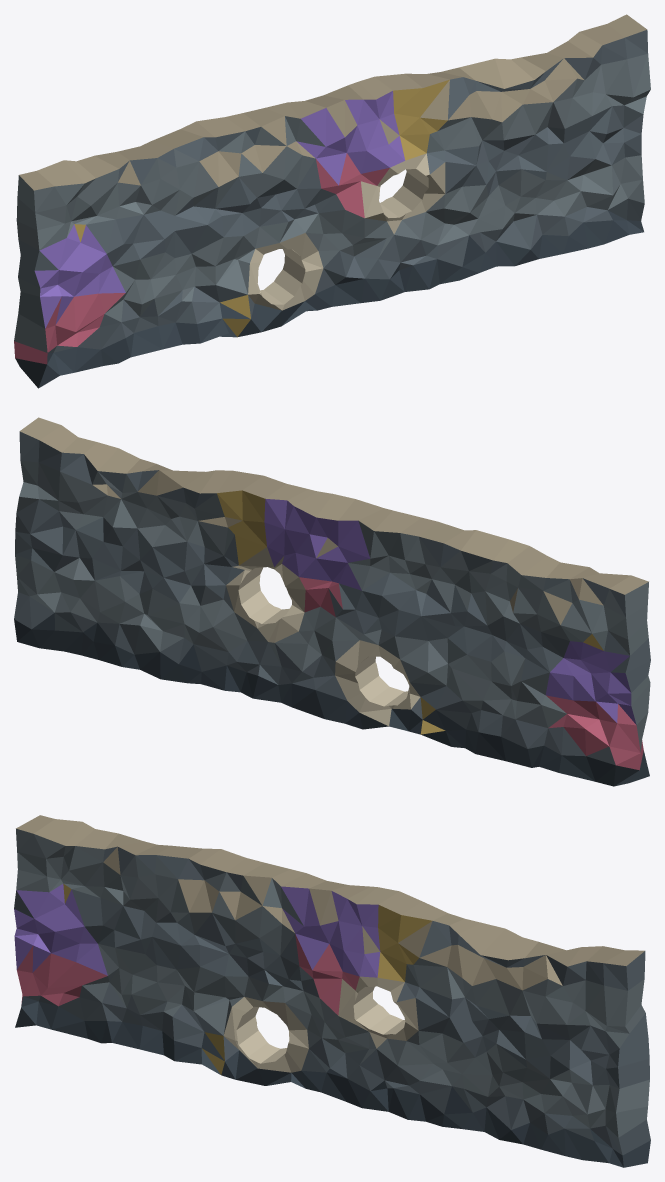
Rendered from Reef_Gate_Twin.glb.
3 renders of one model, top to bottom at view 1: azimuth 30°, elevation 25°; view 2: azimuth 150°, elevation 25°; view 3: azimuth 330°, elevation 25°, orthographic.
Visible parts, largest first — view 1: Reef_Gate_Twin; view 2: Reef_Gate_Twin; view 3: Reef_Gate_Twin.
Boxes of the visible parts, box(x1,y1,x2,y2) form: Reef_Gate_Twin: box(14, 14, 650, 388); Reef_Gate_Twin: box(14, 417, 650, 786); Reef_Gate_Twin: box(14, 815, 650, 1167).
Size of the model in its own units: 47.14 by 15.48 by 4.19.
